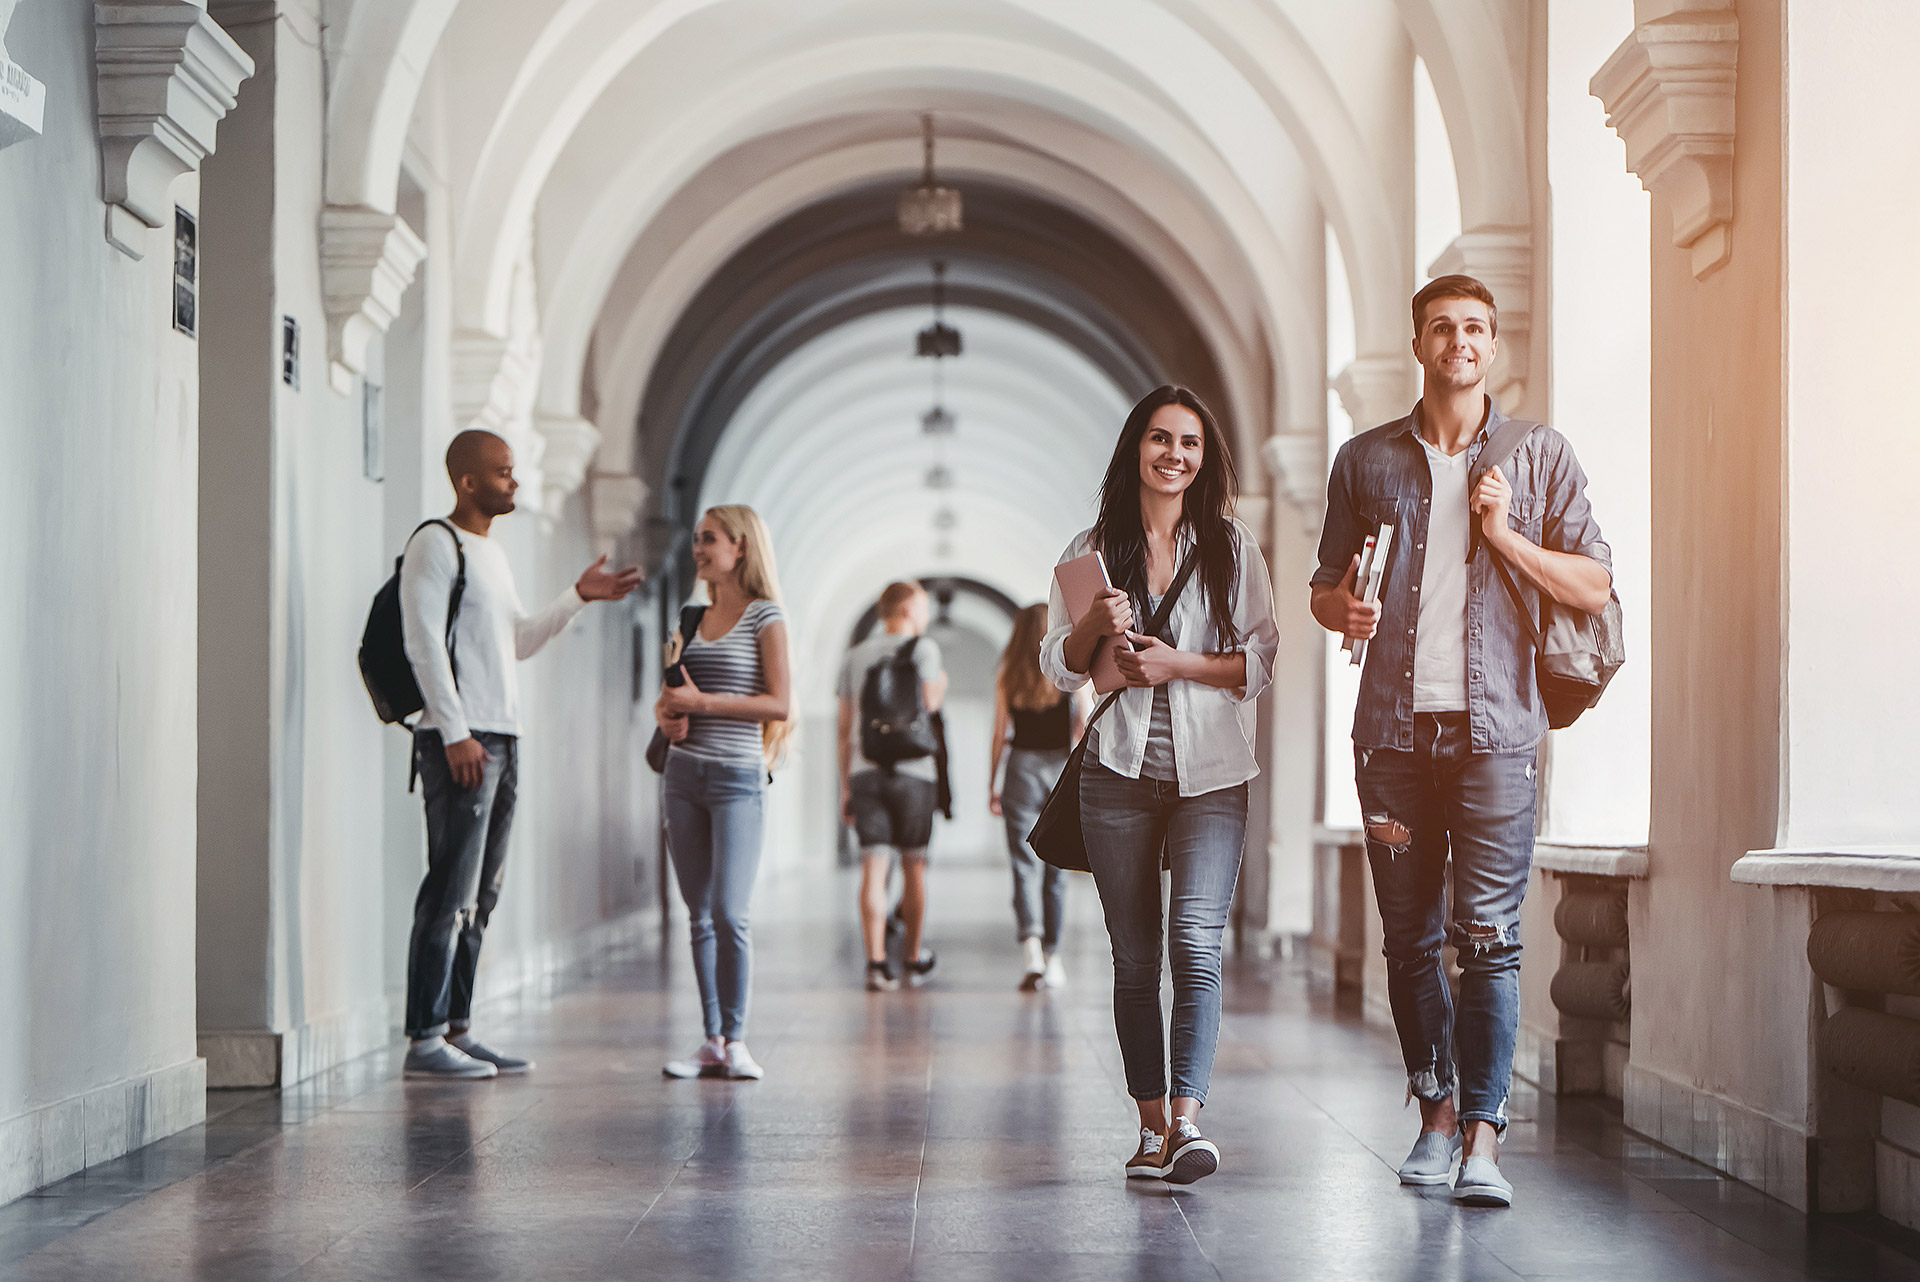students: (1310, 272, 1630, 1210), (1040, 384, 1286, 1187), (359, 426, 646, 1084), (648, 502, 791, 1079), (835, 580, 952, 992), (990, 602, 1078, 991)
